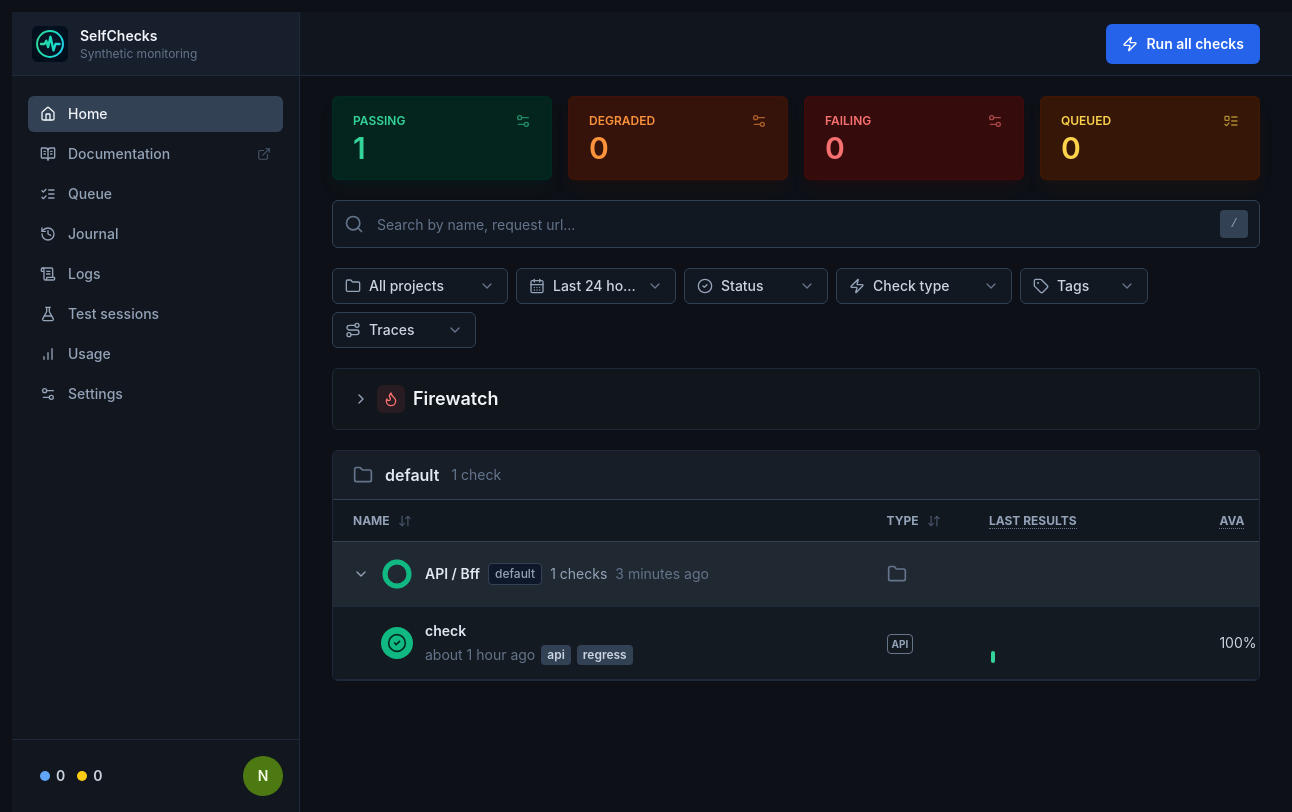
Test: DashboardPage › renders the run Git version in the result popover
Hover over the element named "Passing Local runner 100 ms Aug 20 01:37 version v1.2.3": (993, 657) 991,651 -> 995,663
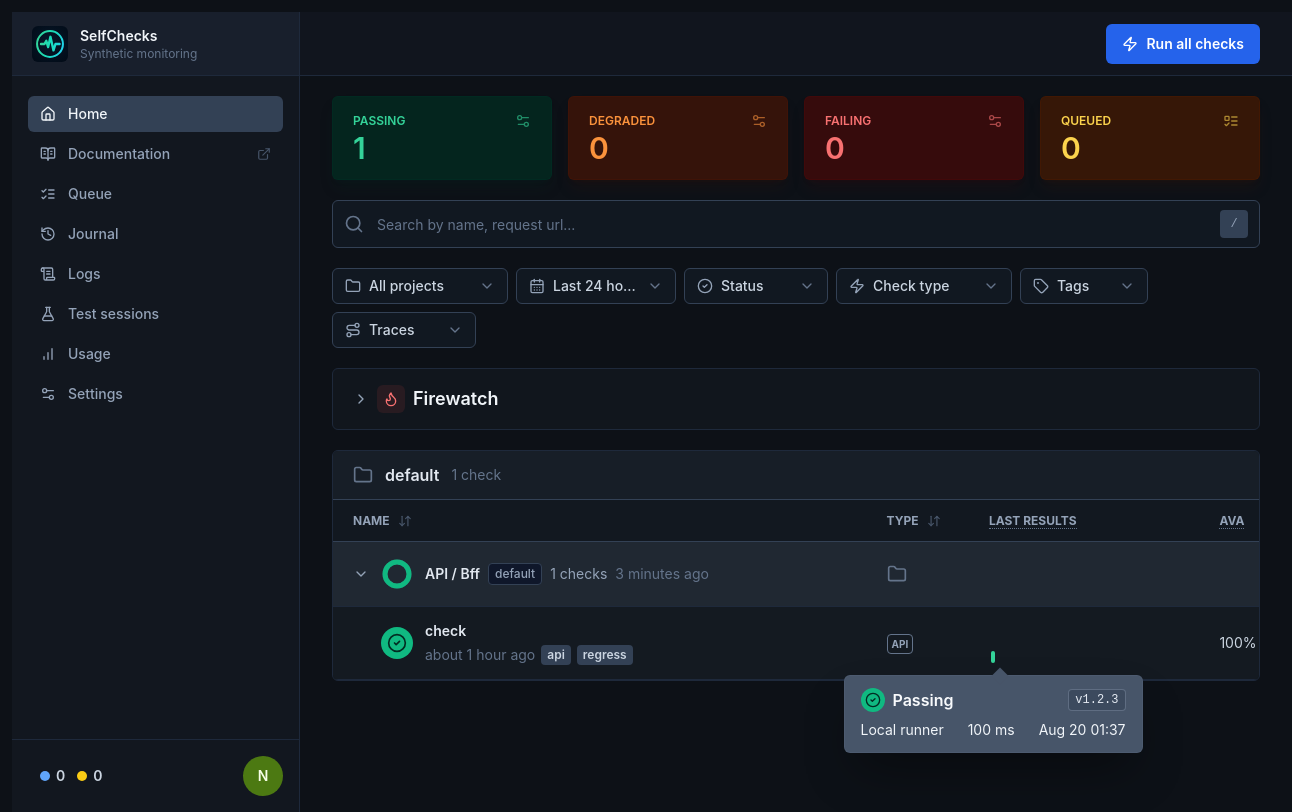
Check: the text "v1.2.3" is shown, box 1068,689 -> 1126,711
